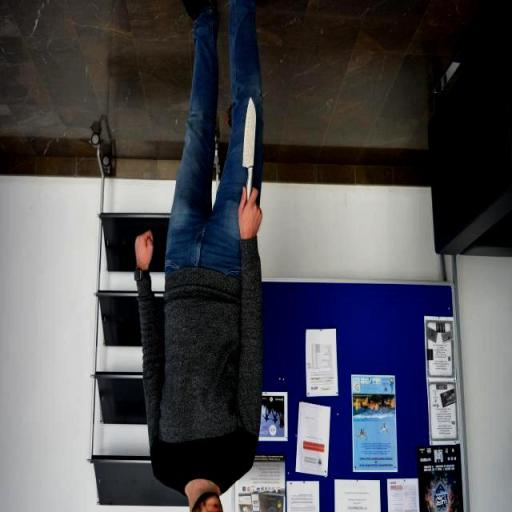knife: (240, 92, 259, 210)
